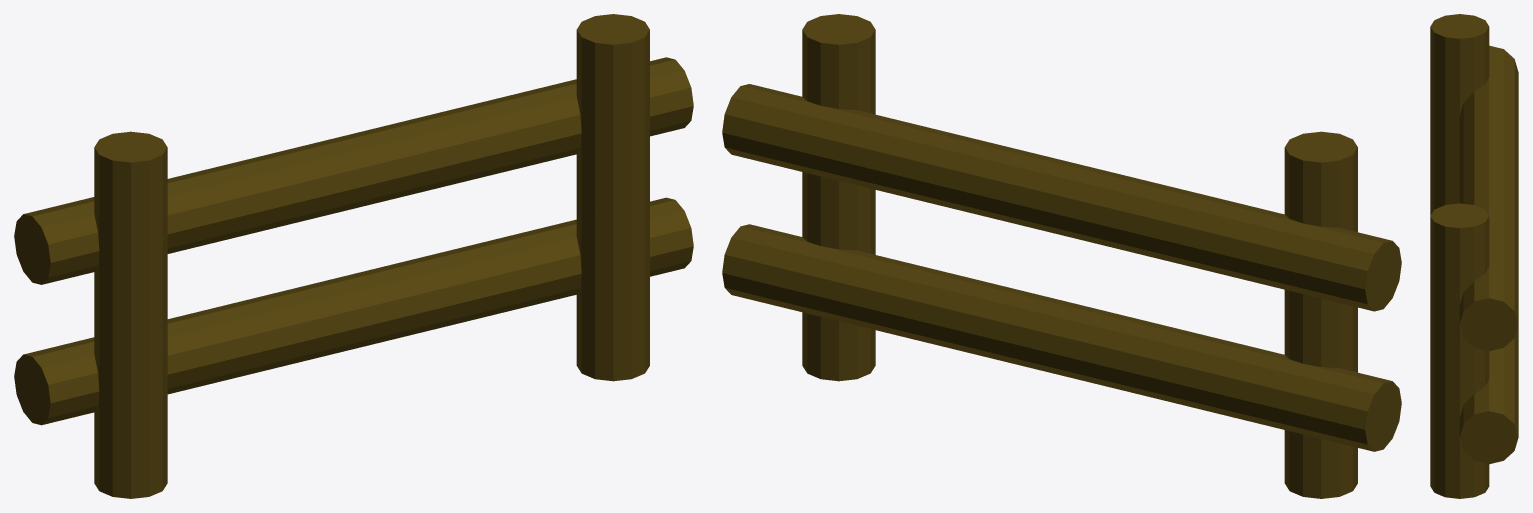
Rendered from Fence_Wood.fbx.
The picture shows the model from 3 angles, left to right: view 1: azimuth 30°, elevation 25°; view 2: azimuth 150°, elevation 25°; view 3: azimuth 270°, elevation 25°; orthographic projection. The views are drawn at different scales.
Parts seen in each view (by area): view 1: Fence_Wood_Full, wood_block_2, wood_block_1, wood_block_6, wood_block_11, wood_block_4, wood_block_12, wood_block_9, wood_block_8, wood_block_10, wood_block_7, wood_block_5 (+1 smaller); view 2: Fence_Wood_Full, wood_block_10, wood_block_6, wood_block_12, wood_block_9, wood_block_11, wood_block_4, wood_block_3, wood_block_5, wood_block_7, wood_block_1, wood_block_8 (+1 smaller); view 3: Fence_Wood_Full, wood_block_2, wood_block_5, wood_block_3, wood_block_4, wood_block_11, wood_block_9, wood_block_10, wood_block_1, wood_block_12, wood_block_6.
Part boxes in pixels (x1,y1,x2,y2): Fence_Wood_Full: [14, 14, 693, 498]; wood_block_2: [576, 198, 649, 380]; wood_block_1: [94, 315, 167, 498]; wood_block_6: [351, 242, 530, 346]; wood_block_11: [199, 135, 370, 230]; wood_block_4: [576, 14, 645, 212]; wood_block_12: [14, 175, 211, 284]; wood_block_9: [506, 57, 693, 166]; wood_block_8: [23, 335, 211, 424]; wood_block_10: [345, 96, 532, 171]; wood_block_7: [185, 279, 329, 360]; wood_block_5: [507, 199, 691, 307]; Fence_Wood_Full: [722, 14, 1401, 498]; wood_block_10: [883, 124, 1070, 232]; wood_block_6: [883, 263, 1070, 369]; wood_block_12: [1204, 202, 1400, 310]; wood_block_9: [722, 84, 909, 193]; wood_block_11: [1046, 162, 1231, 271]; wood_block_4: [802, 14, 870, 212]; wood_block_3: [1285, 134, 1357, 330]; wood_block_5: [722, 224, 909, 330]; wood_block_7: [1071, 306, 1231, 408]; wood_block_1: [1284, 315, 1357, 498]; wood_block_8: [1205, 344, 1390, 450]; Fence_Wood_Full: [1430, 14, 1518, 498]; wood_block_2: [1430, 357, 1485, 498]; wood_block_5: [1459, 350, 1518, 464]; wood_block_3: [1431, 14, 1489, 173]; wood_block_4: [1431, 210, 1489, 363]; wood_block_11: [1459, 109, 1518, 197]; wood_block_9: [1459, 235, 1518, 323]; wood_block_10: [1459, 172, 1518, 261]; wood_block_1: [1430, 164, 1455, 212]; wood_block_12: [1461, 46, 1518, 127]; wood_block_6: [1497, 332, 1518, 373].
Size of the model in its own units: 4 by 2 by 0.5895.
